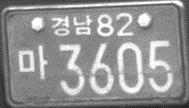0: (117, 41, 144, 95)
2: (116, 11, 134, 37)
3: (57, 43, 85, 96)
5: (148, 39, 174, 93)
6: (89, 42, 115, 95)
8: (96, 12, 115, 38)
경남_O: (50, 14, 92, 37)
마: (17, 43, 48, 80)
